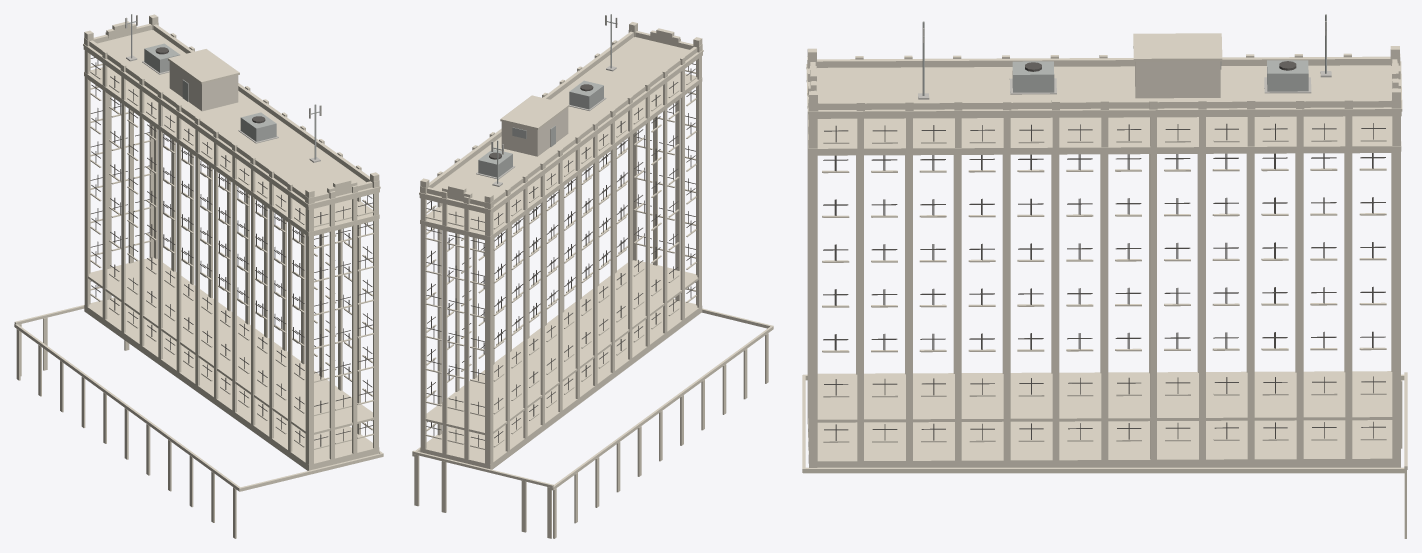
The model's file is baxter_dressing.glb.
3 views of the same model, side by side, from view 1: azimuth 30°, elevation 25°; view 2: azimuth 150°, elevation 25°; view 3: azimuth 270°, elevation 25° (orthographic). The views are drawn at different scales.
Visible parts, largest first — view 1: BaxterDressing; view 2: BaxterDressing; view 3: BaxterDressing.
Part boxes in pixels (<box>): BaxterDressing: <box>14,14,383,538</box>; BaxterDressing: <box>412,14,773,538</box>; BaxterDressing: <box>802,14,1407,538</box>.
Size of the model in its own units: 16.24 by 40.47 by 44.02.
